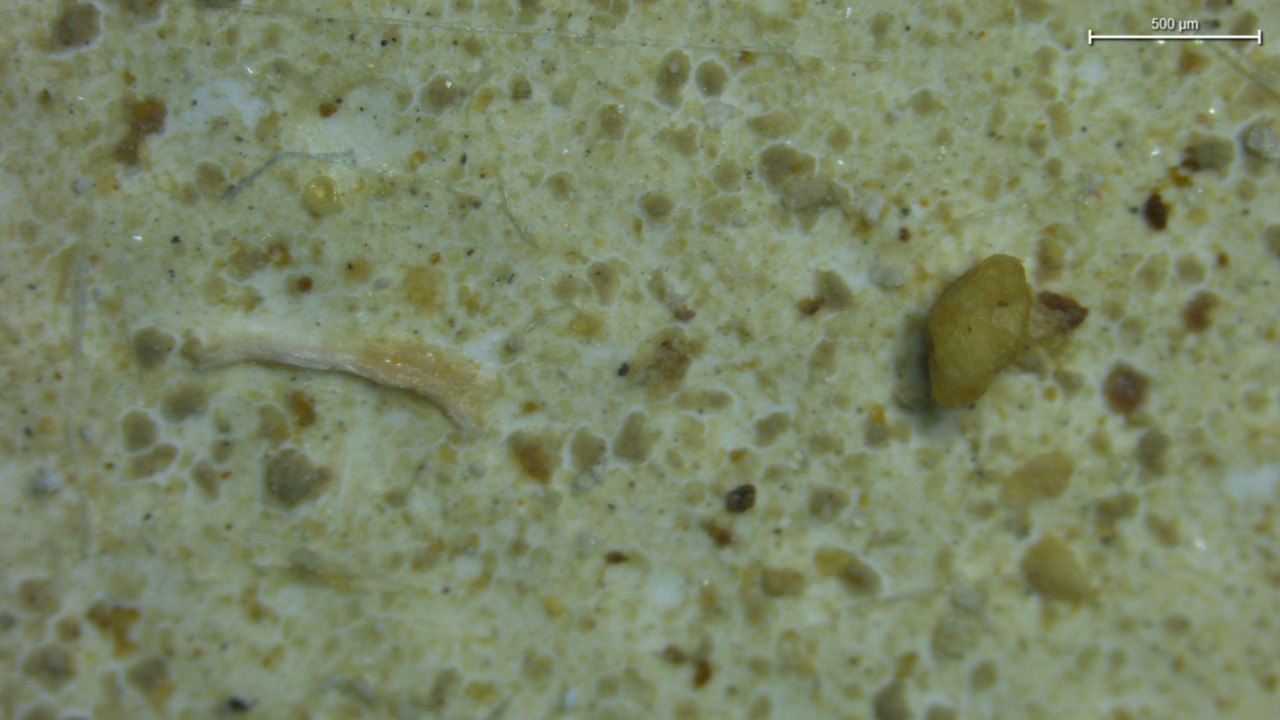microplastic_fragment: (927, 254, 1032, 409)
